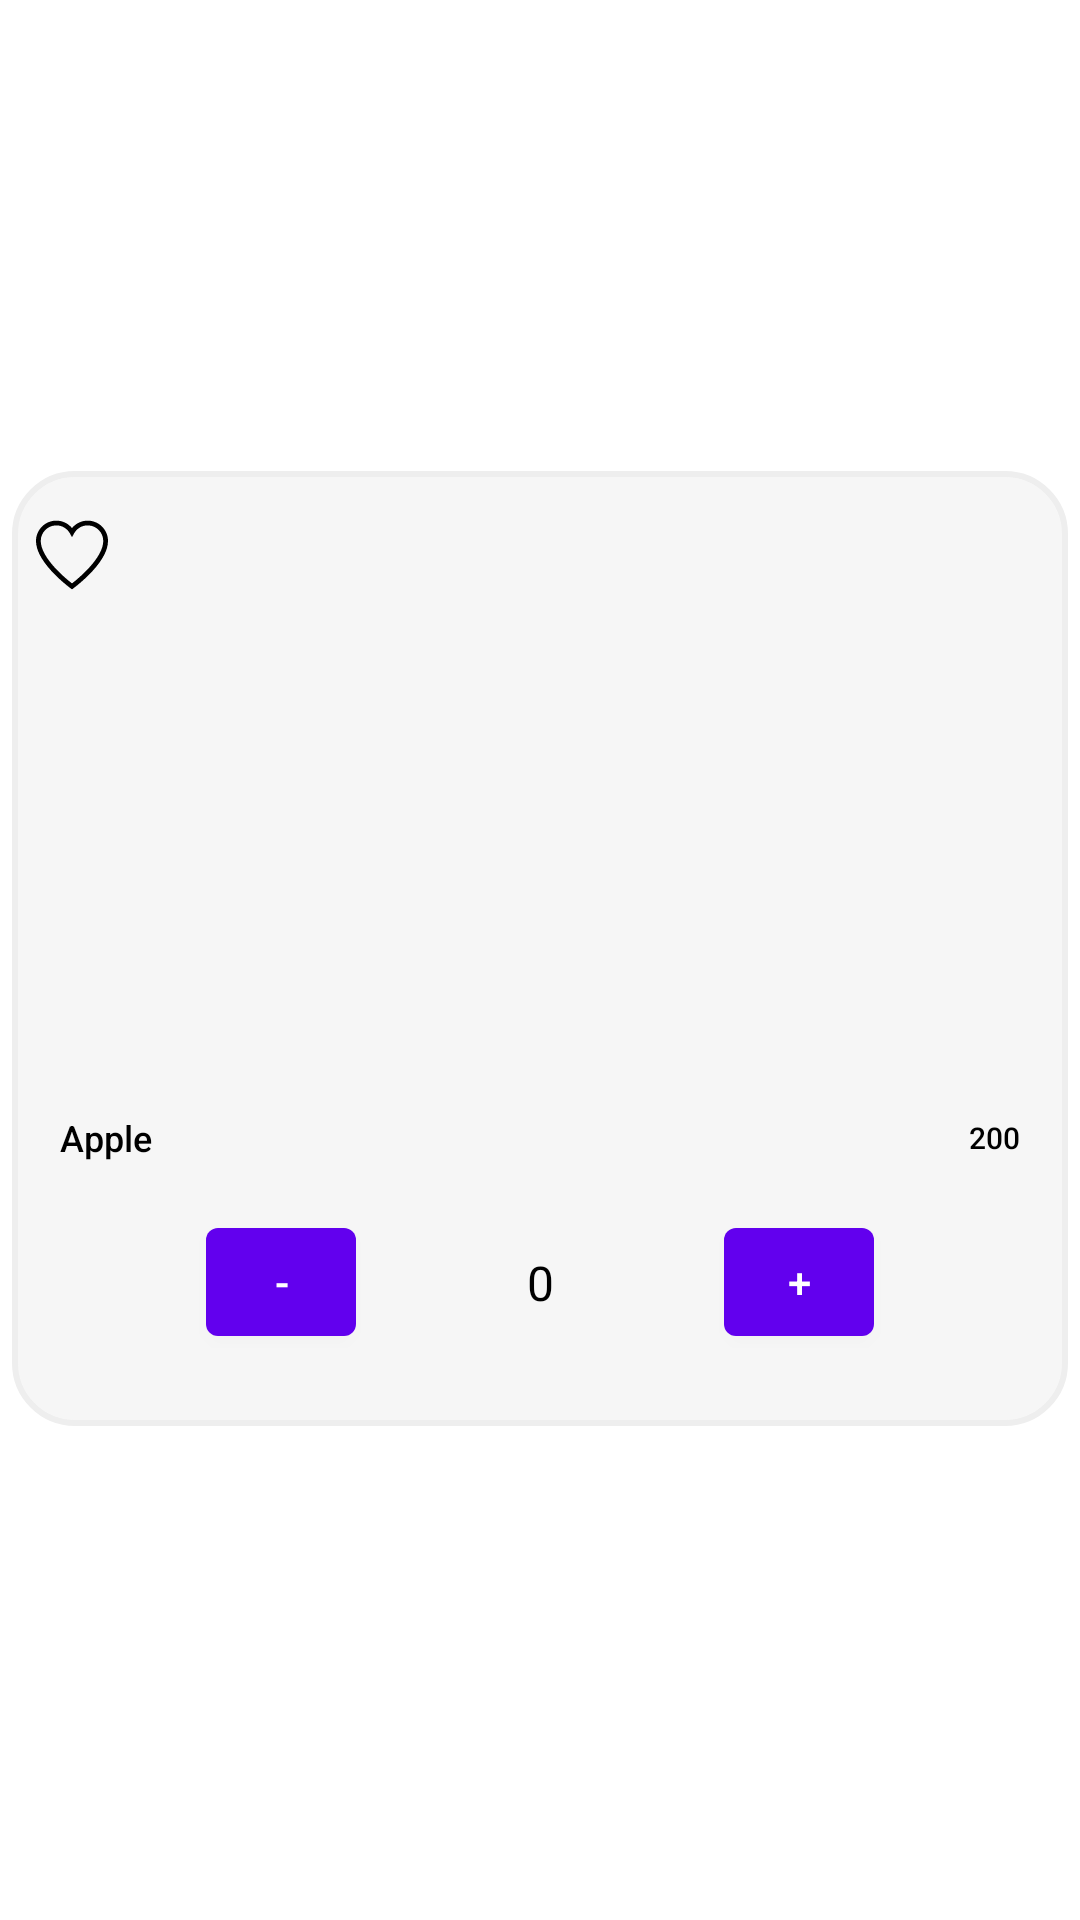

Icon click points for this 1080 x 1920 phone screenshot, format point (x, y):
favorite: point (72, 554)
